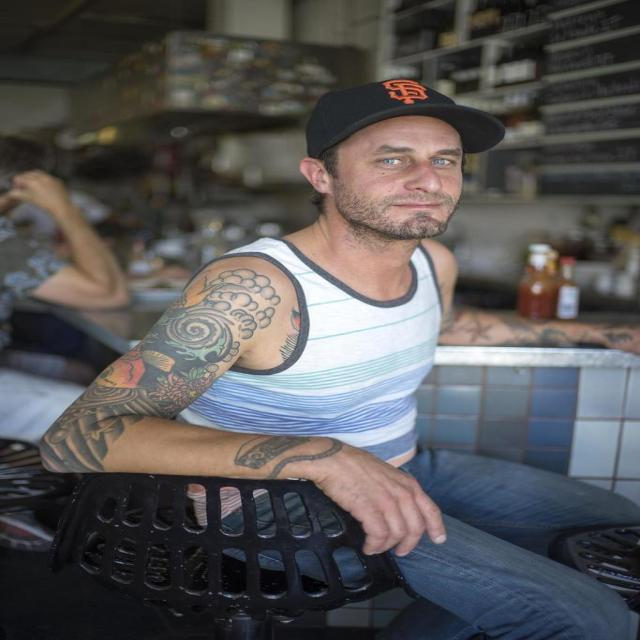Hat: (302, 80, 505, 158)
